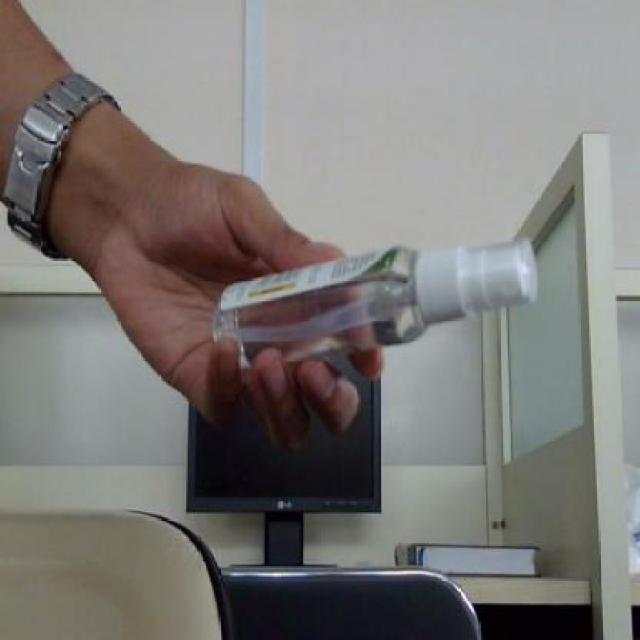Plastic: (212, 224, 552, 367)
